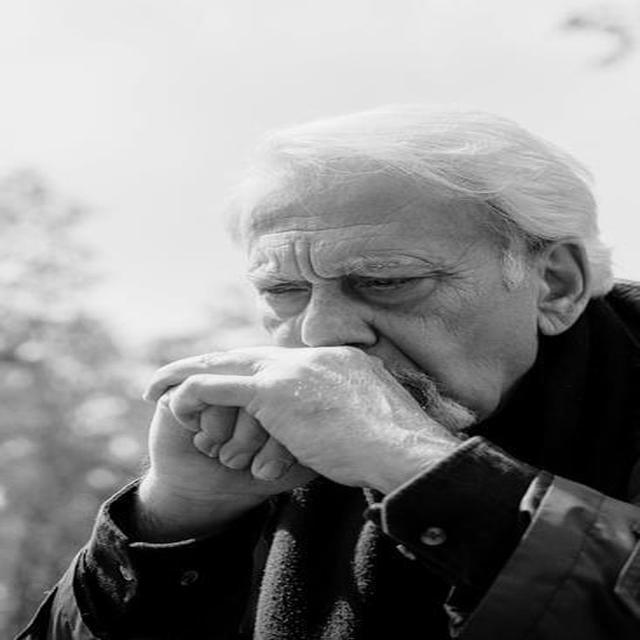Sadness: (243, 173, 507, 425)
